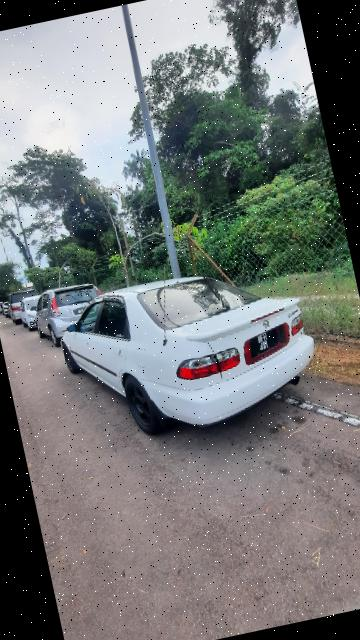License_Plate: (245, 323, 289, 360)
car: (48, 251, 330, 457)
